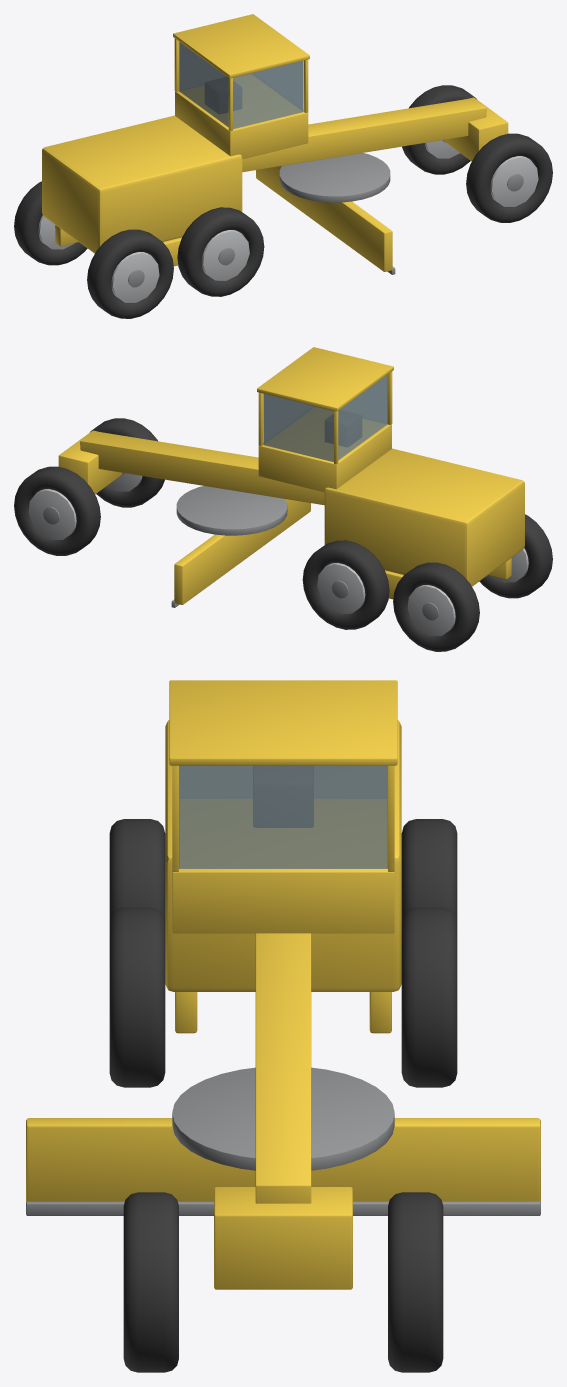
Rendered from EQP-TER-004_anim.glb.
The picture shows the model from 3 angles, top to bottom: view 1: azimuth 30°, elevation 25°; view 2: azimuth 150°, elevation 25°; view 3: azimuth 270°, elevation 25°; orthographic projection. The views are drawn at different scales.
Parts seen in each view (by area): view 1: EQP-TER-004_anim7, EQP-TER-004_anim6, EQP-TER-004_anim2, EQP-TER-004_anim0, EQP-TER-004_anim3, EQP-TER-004_anim5, EQP-TER-004_anim1; view 2: EQP-TER-004_anim7, EQP-TER-004_anim6, EQP-TER-004_anim4, EQP-TER-004_anim1, EQP-TER-004_anim5, EQP-TER-004_anim3, EQP-TER-004_anim0; view 3: EQP-TER-004_anim7, EQP-TER-004_anim6, EQP-TER-004_anim2, EQP-TER-004_anim4, EQP-TER-004_anim0, EQP-TER-004_anim1, EQP-TER-004_anim3, EQP-TER-004_anim5.
Boxes of the visible parts, x1=… form: EQP-TER-004_anim7: x1=42, y1=14, x2=508, y2=266; EQP-TER-004_anim6: x1=256, y1=153, x2=395, y2=274; EQP-TER-004_anim2: x1=177, y1=207, x2=264, y2=296; EQP-TER-004_anim0: x1=466, y1=133, x2=552, y2=222; EQP-TER-004_anim3: x1=87, y1=229, x2=173, y2=318; EQP-TER-004_anim5: x1=14, y1=181, x2=87, y2=265; EQP-TER-004_anim1: x1=402, y1=85, x2=476, y2=174; EQP-TER-004_anim7: x1=58, y1=347, x2=524, y2=599; EQP-TER-004_anim6: x1=171, y1=486, x2=310, y2=607; EQP-TER-004_anim4: x1=302, y1=540, x2=389, y2=629; EQP-TER-004_anim1: x1=14, y1=466, x2=100, y2=555; EQP-TER-004_anim5: x1=393, y1=562, x2=479, y2=651; EQP-TER-004_anim3: x1=479, y1=514, x2=552, y2=598; EQP-TER-004_anim0: x1=90, y1=418, x2=164, y2=507; EQP-TER-004_anim7: x1=165, y1=680, x2=401, y2=1289; EQP-TER-004_anim6: x1=26, y1=1067, x2=540, y2=1215; EQP-TER-004_anim2: x1=109, y1=907, x2=165, y2=1087; EQP-TER-004_anim4: x1=401, y1=907, x2=457, y2=1087; EQP-TER-004_anim0: x1=123, y1=1192, x2=178, y2=1372; EQP-TER-004_anim1: x1=388, y1=1192, x2=443, y2=1372; EQP-TER-004_anim3: x1=109, y1=819, x2=165, y2=920; EQP-TER-004_anim5: x1=401, y1=819, x2=457, y2=920.
Bounding box in the file's own units: 7.65 × 3.3 × 3.7.
